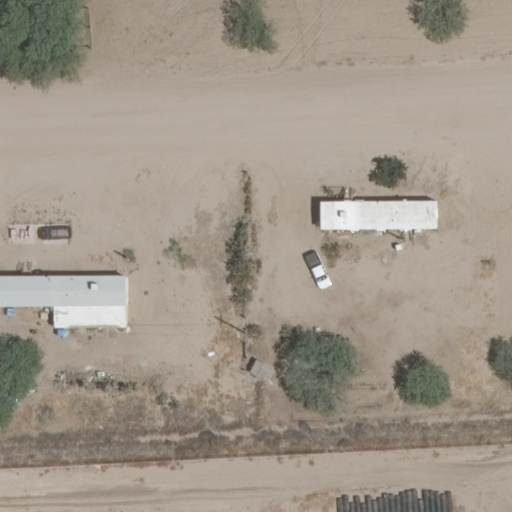DT: (235, 320, 257, 348)
